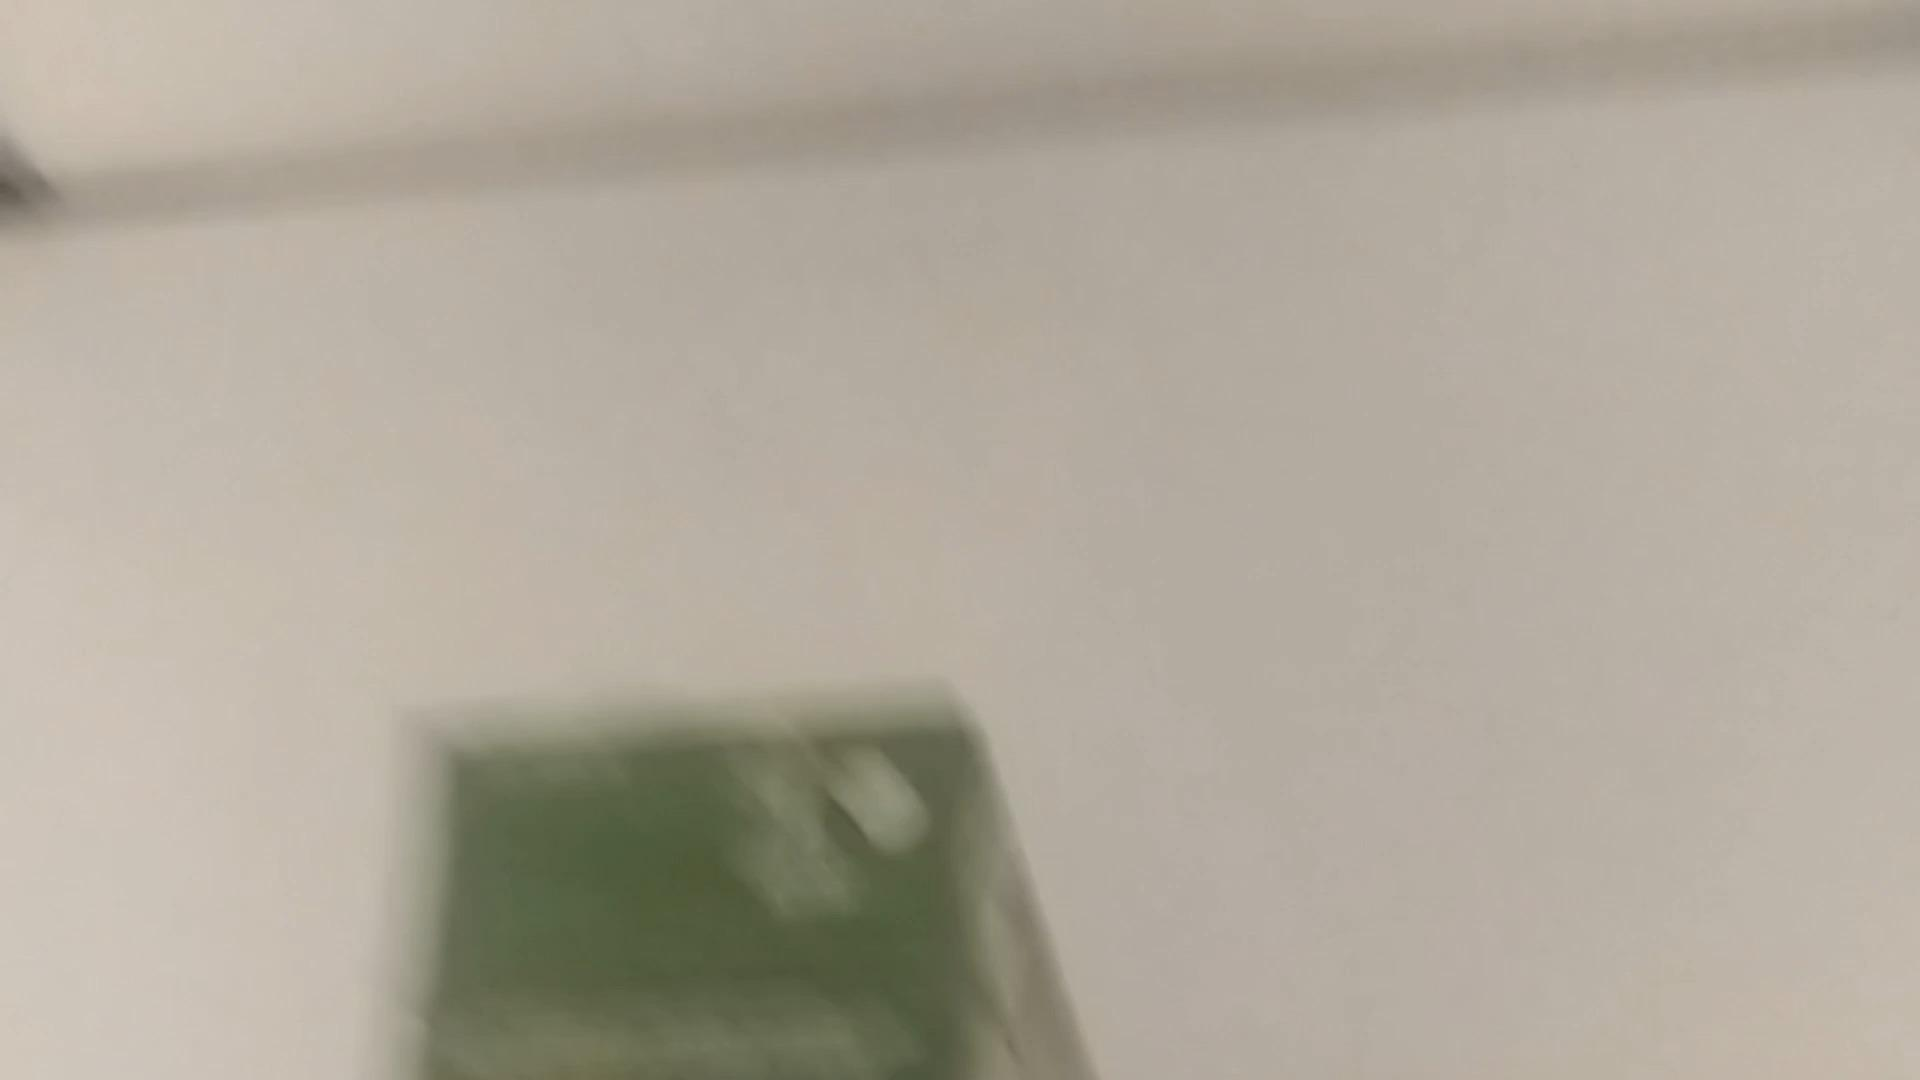coco: (419, 687, 1116, 1080)
